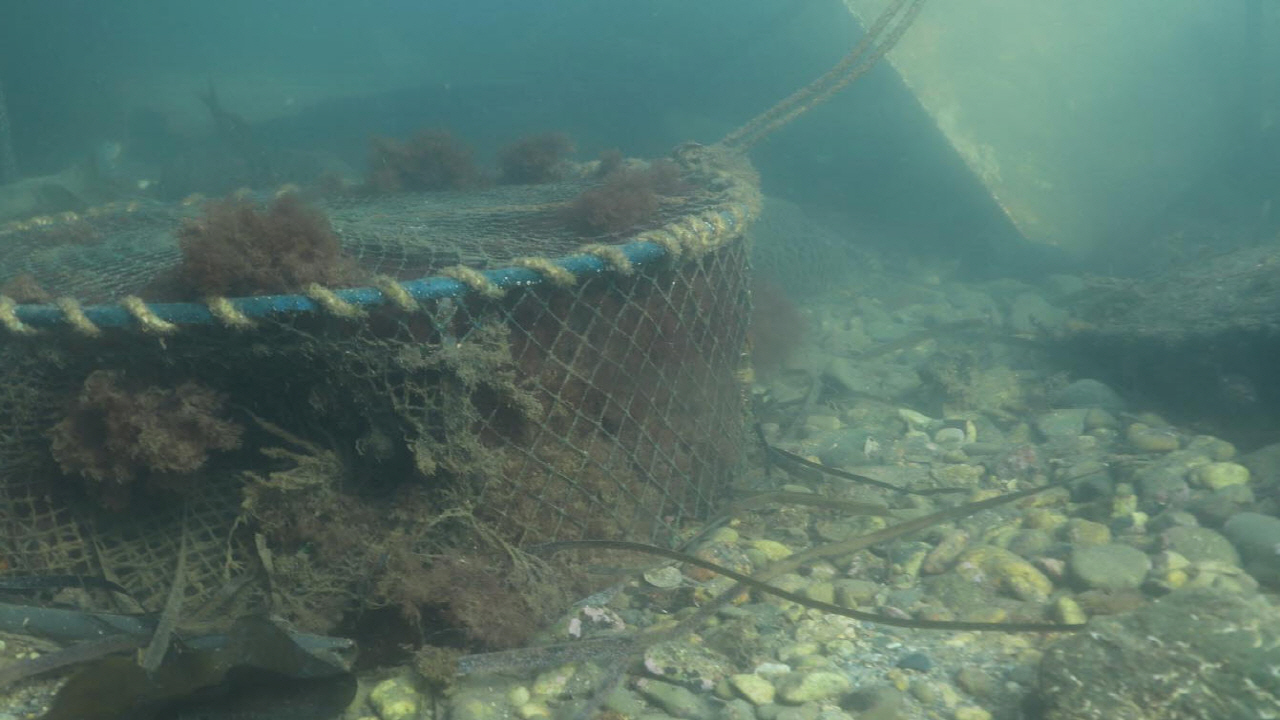bundle of ropes: (685, 0, 918, 160)
circular fish trap: (0, 157, 764, 631)
